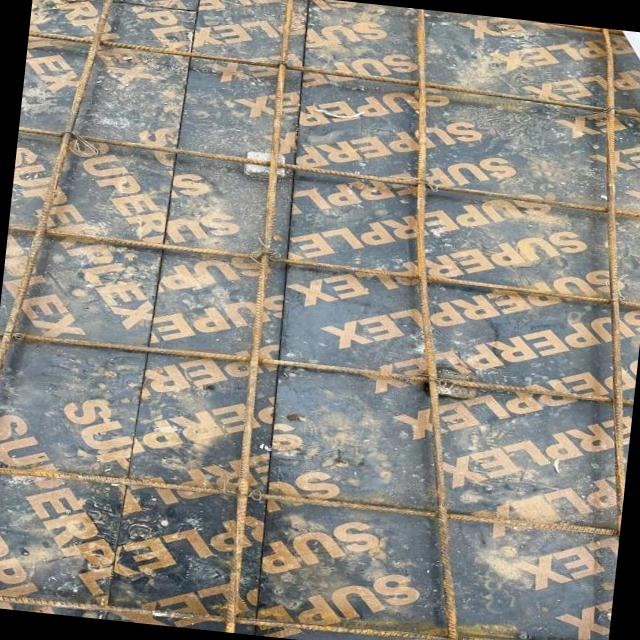ribbed bar: (336, 7, 528, 640), (16, 125, 640, 220), (26, 28, 640, 121), (216, 0, 303, 632), (7, 222, 640, 307), (0, 0, 120, 403), (0, 329, 632, 405), (0, 461, 618, 537), (547, 27, 640, 525), (0, 581, 606, 640)
